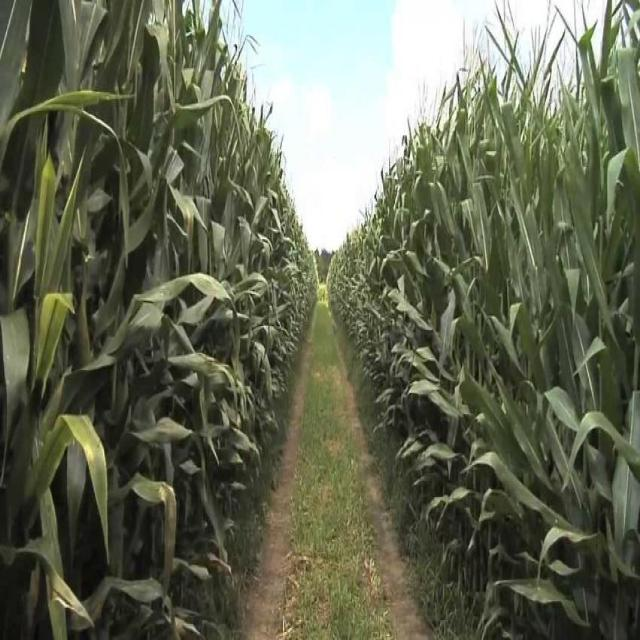row: (228, 296, 452, 640)
